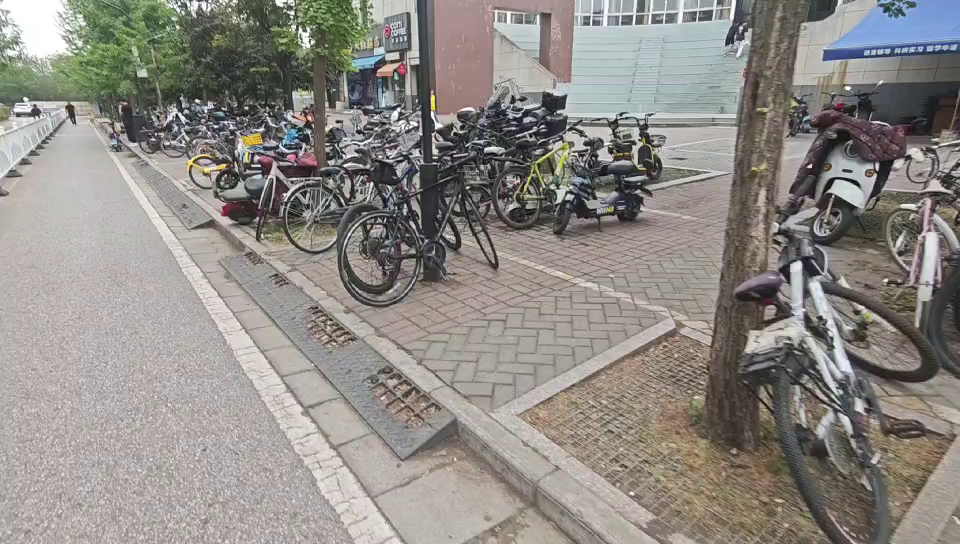others: (730, 200, 932, 539), (332, 155, 500, 307), (280, 133, 402, 242), (896, 141, 960, 336), (810, 92, 880, 249), (557, 118, 651, 232), (250, 145, 354, 245)
shared_bike_meituan: (187, 117, 263, 188)
